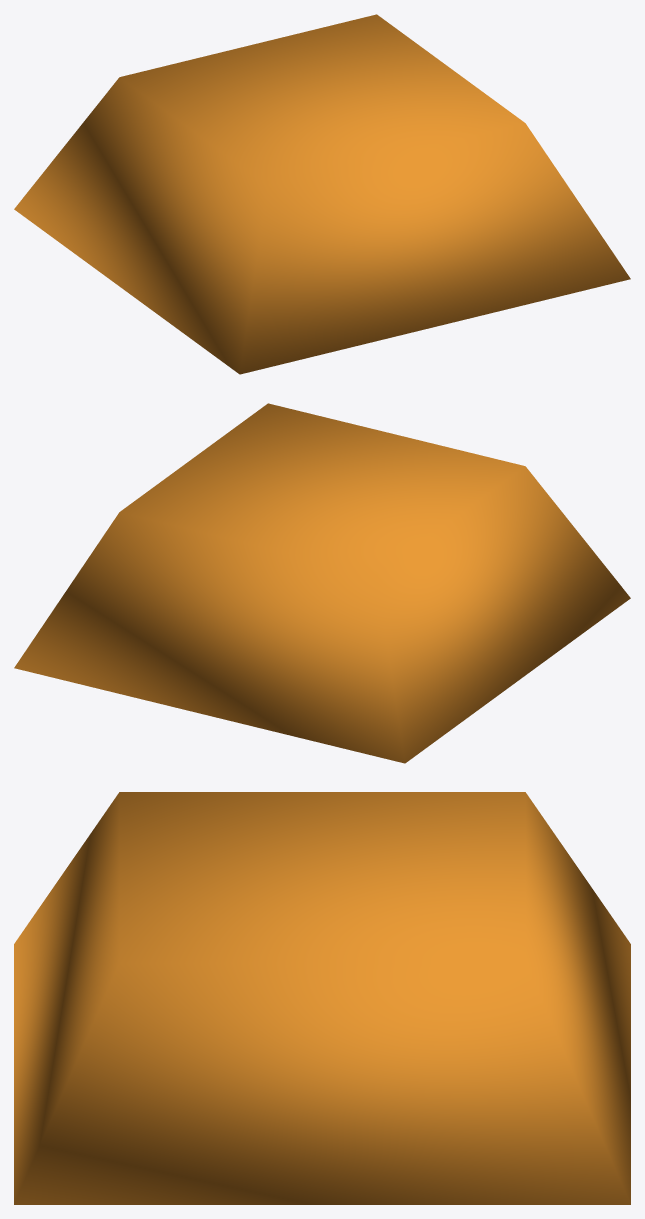
The model's file is pansuperior.glb.
3 renders of one model, top to bottom at view 1: azimuth 30°, elevation 25°; view 2: azimuth 150°, elevation 25°; view 3: azimuth 270°, elevation 25°, orthographic. The views are drawn at different scales.
Visible parts, largest first — view 1: Pan Superior.001; view 2: Pan Superior.001; view 3: Pan Superior.001.
Part boxes in pixels (x1,y1,x2,y2): Pan Superior.001: (14,14,630,374); Pan Superior.001: (14,403,630,763); Pan Superior.001: (14,792,630,1204).
Size of the model in its own units: 2.47 by 0.8697 by 2.47.
